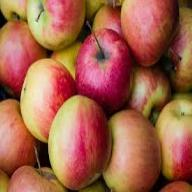apple: (47, 100, 109, 180), (74, 30, 136, 108), (104, 113, 164, 191), (18, 62, 77, 134), (118, 0, 172, 72), (128, 58, 176, 132), (24, 2, 81, 52), (159, 100, 191, 178)
